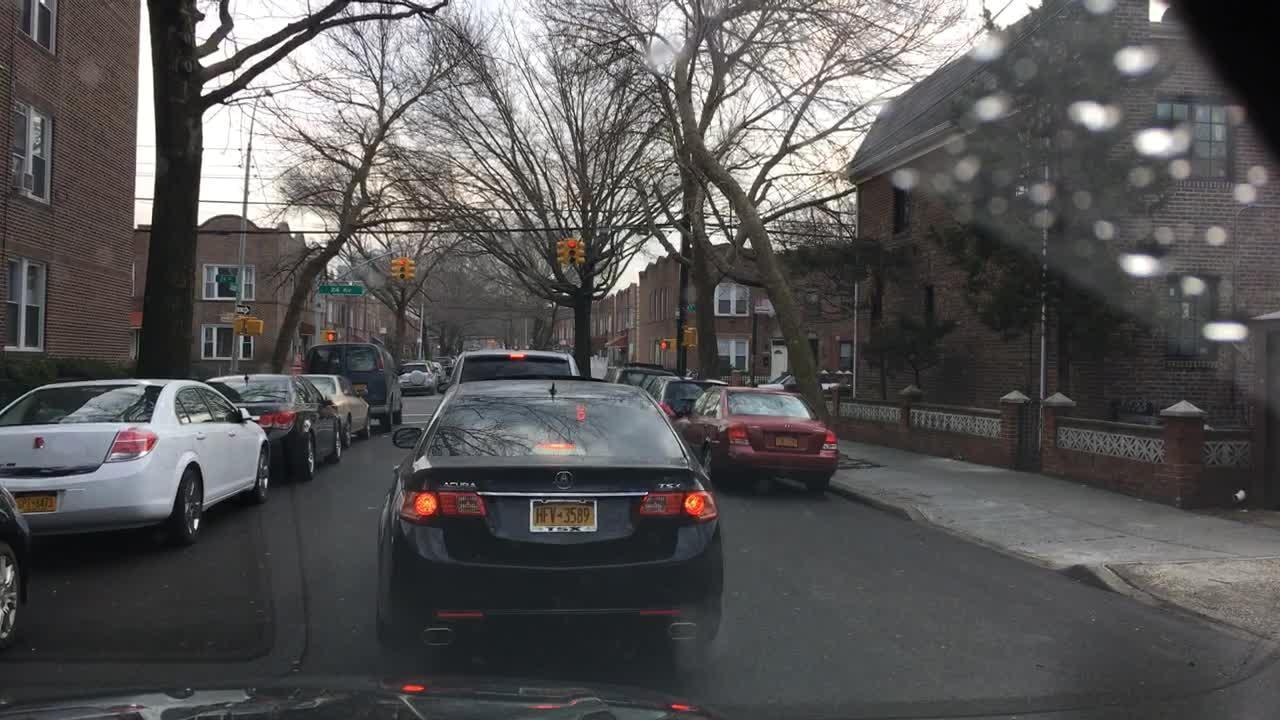acura: (548, 463, 584, 495)
